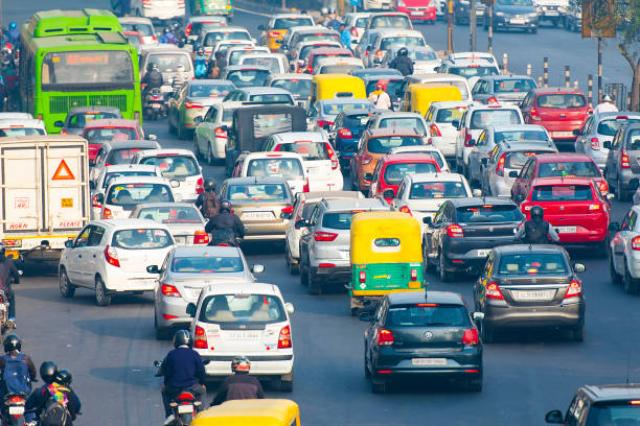3-Wheeler: (337, 208, 435, 308)
bus: (16, 14, 148, 132)
car: (352, 292, 502, 406), (188, 281, 316, 379), (471, 251, 597, 348), (51, 220, 175, 308)
